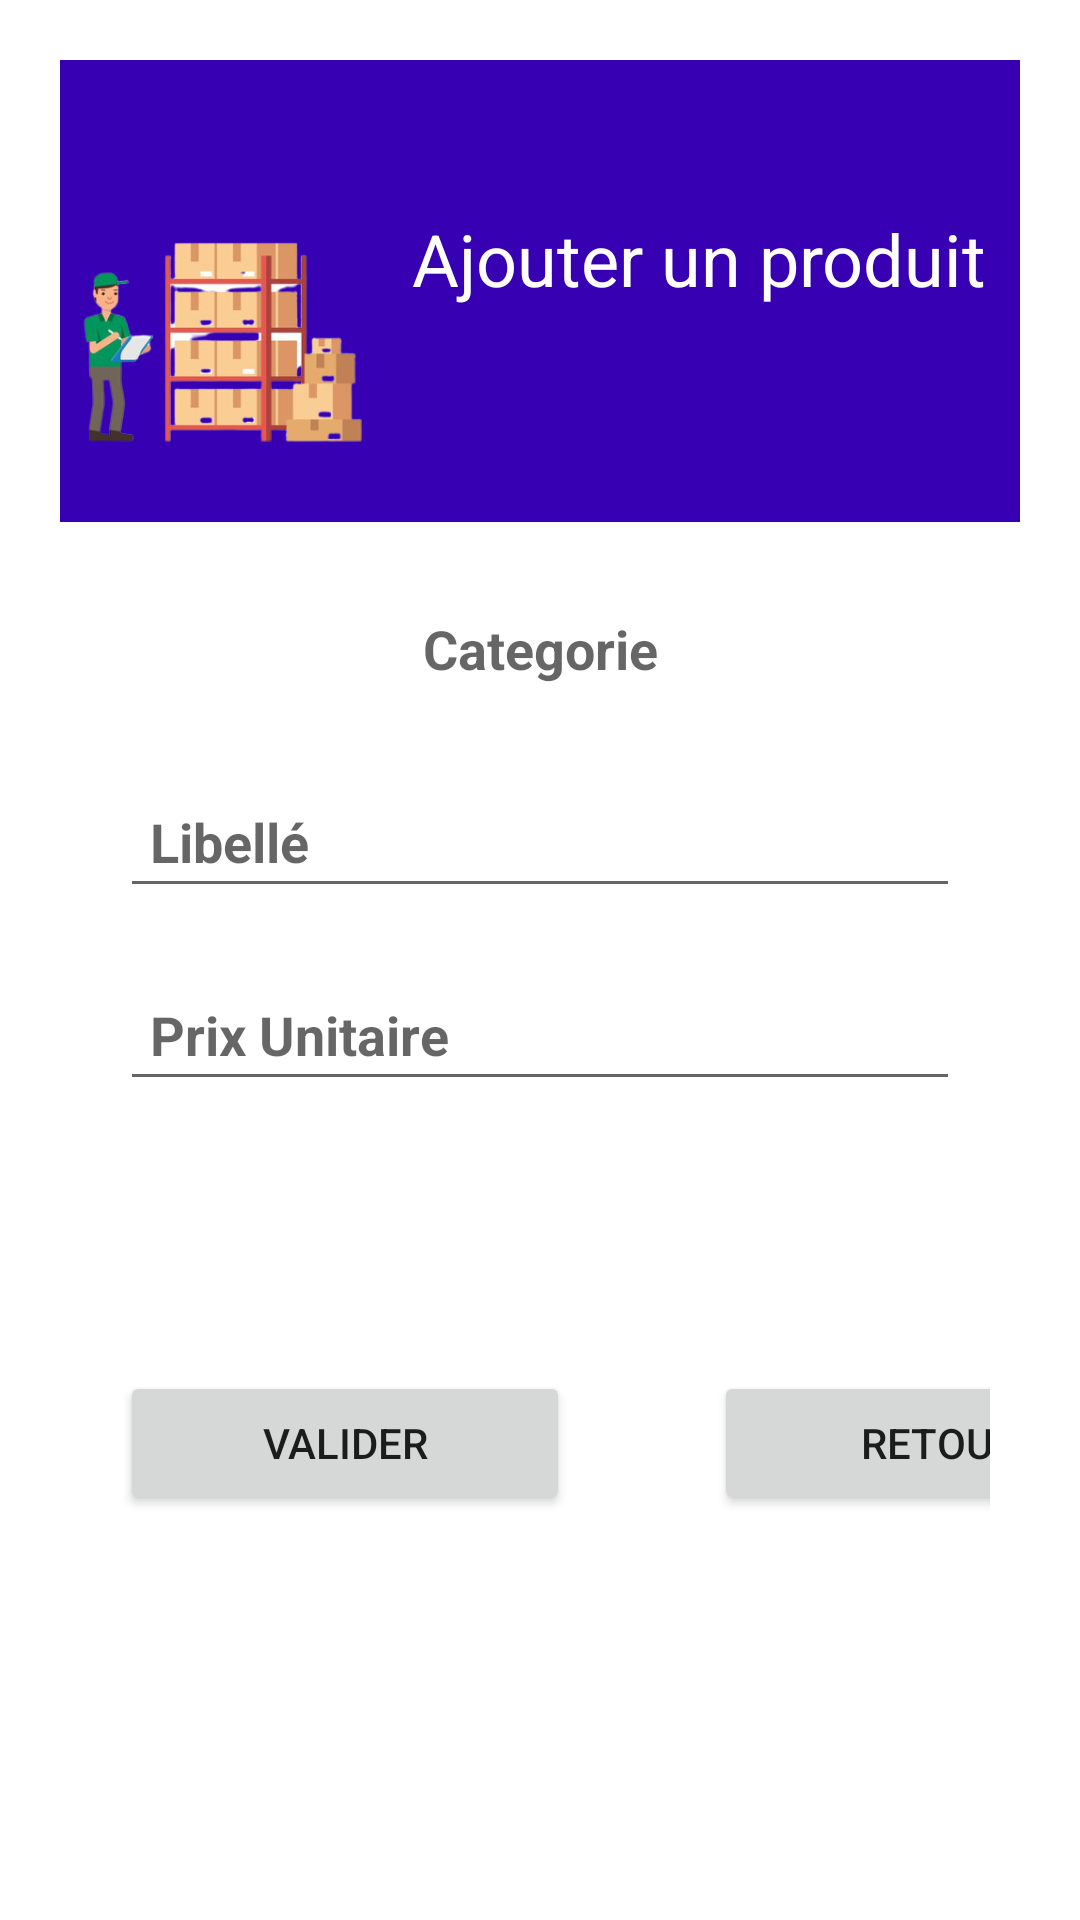

Named icons in this screenshot (1080 × 1920) and their bounding boxes, (x1, y1, x2, y2):
stock: (84, 243, 362, 442)
